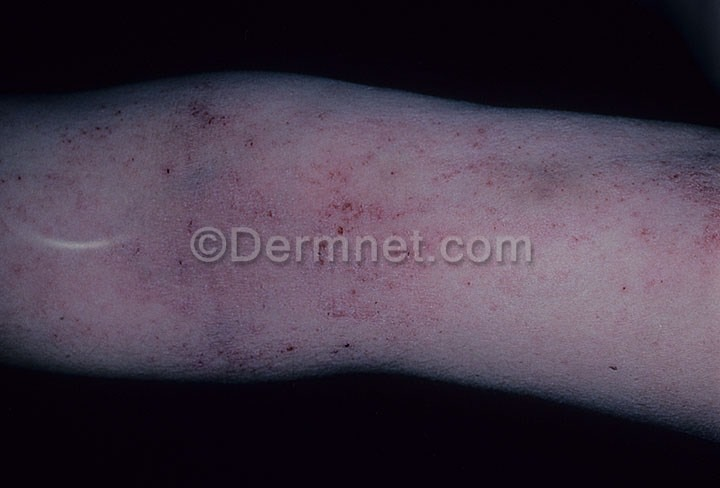Eczema: (12, 101, 720, 388)
